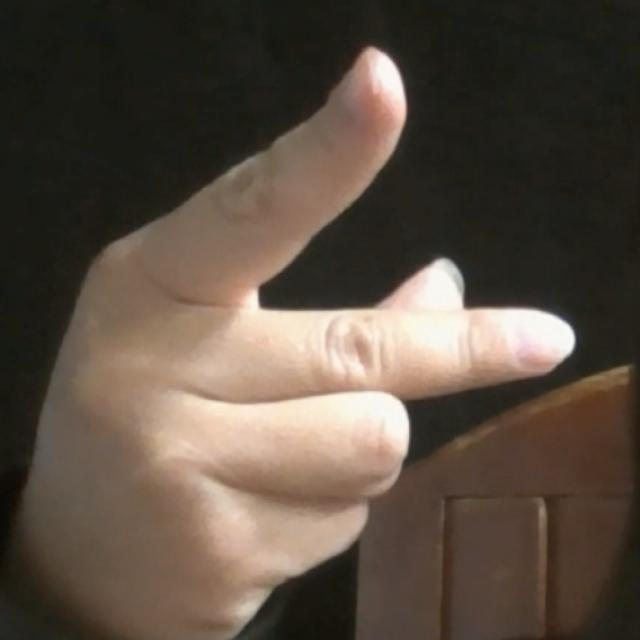K: (21, 41, 589, 630)
